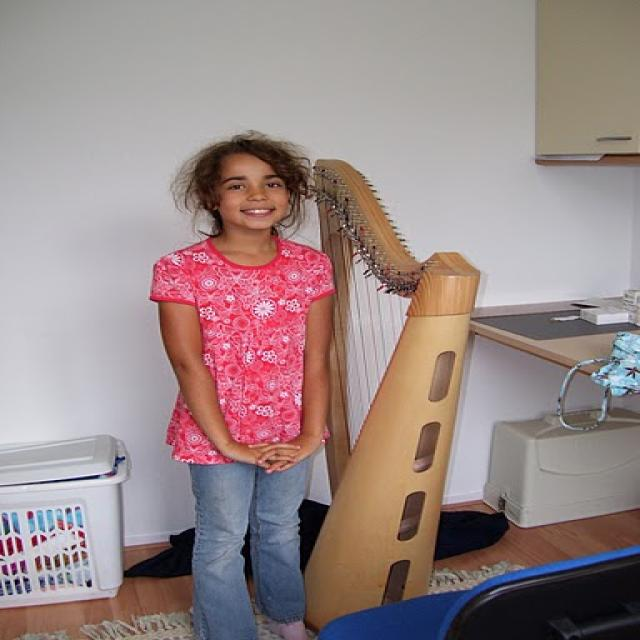harp: (299, 143, 487, 634)
